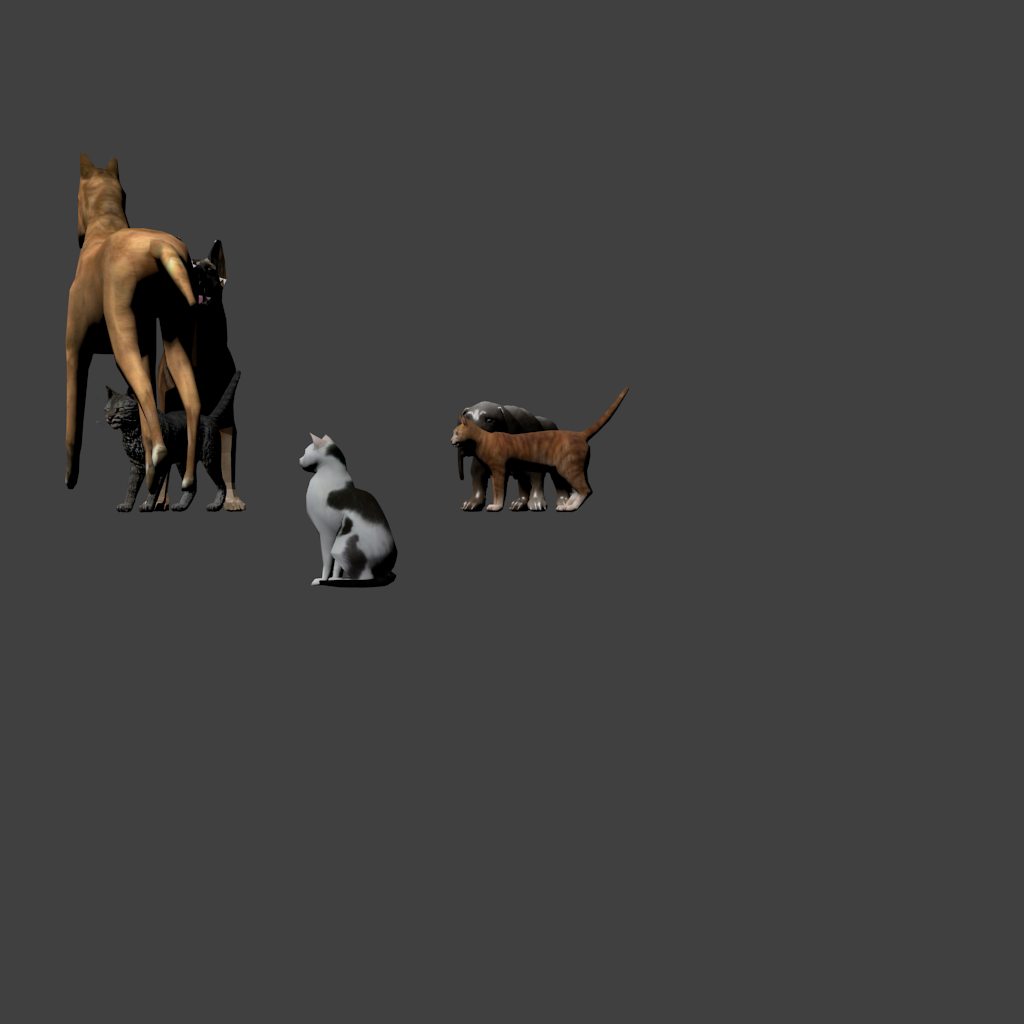Dog: (65, 152, 136, 343)
